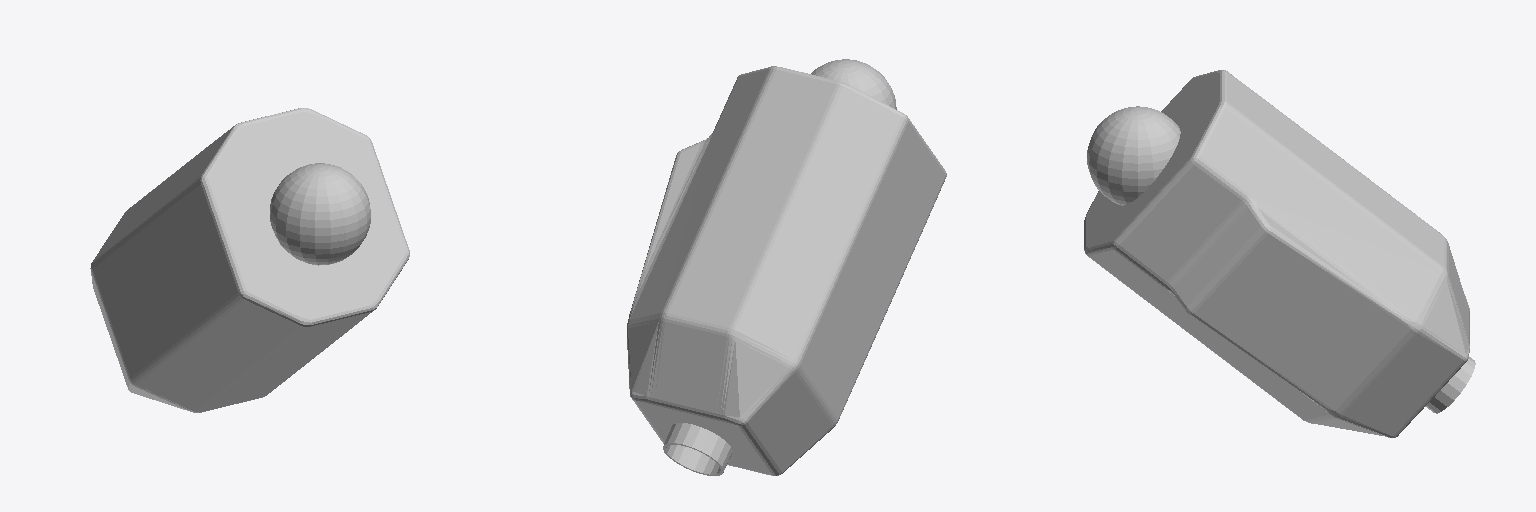
File: MeleeRobot_rightlowerarm.obj
The picture shows the model from 3 angles: view 1: azimuth 30°, elevation 25°; view 2: azimuth 150°, elevation 25°; view 3: azimuth 270°, elevation 25°; orthographic projection.
Parts seen in each view (by area): view 1: R_Elbow R_Arm_Cannon, R_Elbow; view 2: R_Elbow R_Arm_Cannon, R_Elbow R_Arm_Cannon LCannon_Barrel L_Arm_Cannon L_Elbow RCannon, R_Elbow; view 3: R_Elbow R_Arm_Cannon, R_Elbow, R_Elbow R_Arm_Cannon LCannon_Barrel L_Arm_Cannon L_Elbow RCannon.
Part boxes in pixels (x1,y1,x2,y2): R_Elbow R_Arm_Cannon: (90,108,409,412); R_Elbow: (270,163,370,265); R_Elbow R_Arm_Cannon: (627,66,946,475); R_Elbow R_Arm_Cannon LCannon_Barrel L_Arm_Cannon L_Elbow RCannon: (663,423,732,475); R_Elbow: (811,59,896,109); R_Elbow R_Arm_Cannon: (1084,70,1469,437); R_Elbow: (1087,106,1180,205); R_Elbow R_Arm_Cannon LCannon_Barrel L_Arm_Cannon L_Elbow RCannon: (1425,357,1475,413).
Bounding box in the file's own units: 1.23 × 1.97 × 2.13.